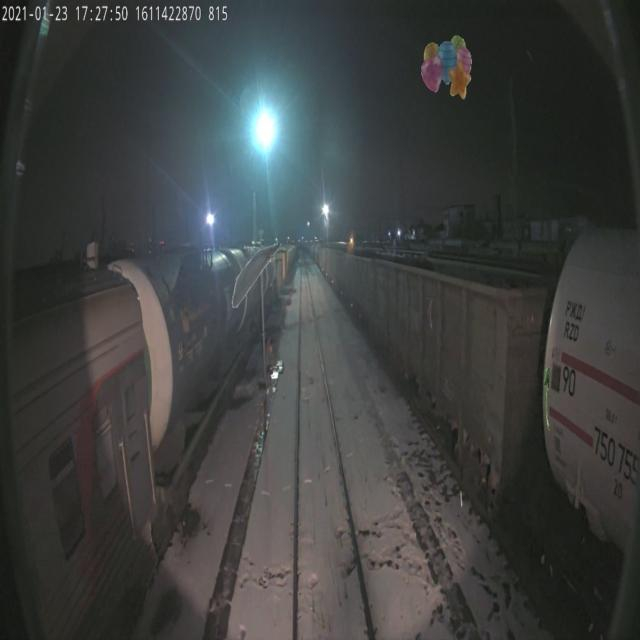balloon: (421, 35, 473, 99)
floating object: (230, 244, 282, 308), (543, 366, 551, 430)
